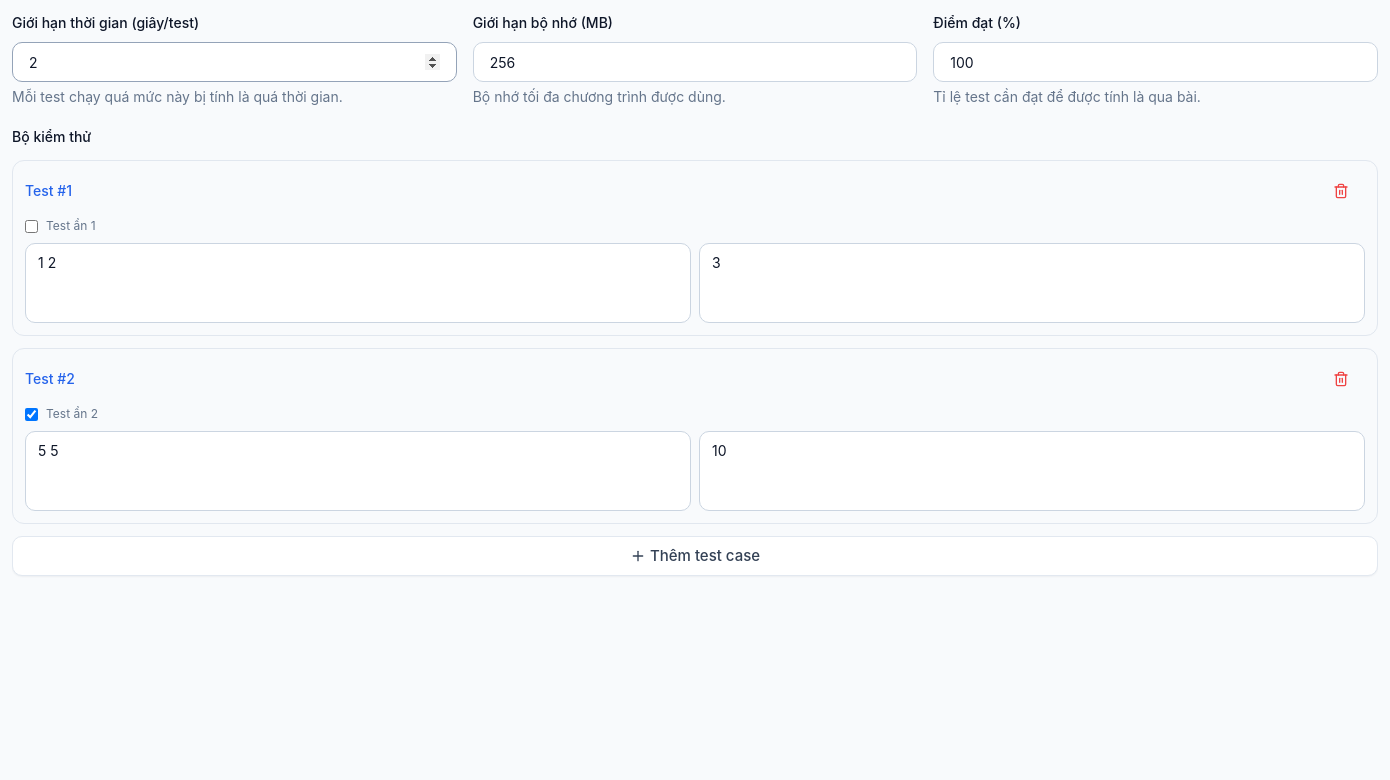
Test: ExerciseSettingsEditor › xoá trắng đầu vào của test (backend trả 400 cho input rỗng) -> chặn lưu
Expected: the text box showing "5 5" is shown, [25,431,691,511]
Clear the text box named "Đầu vào test 1" at (358, 283), box [25,243,691,323]
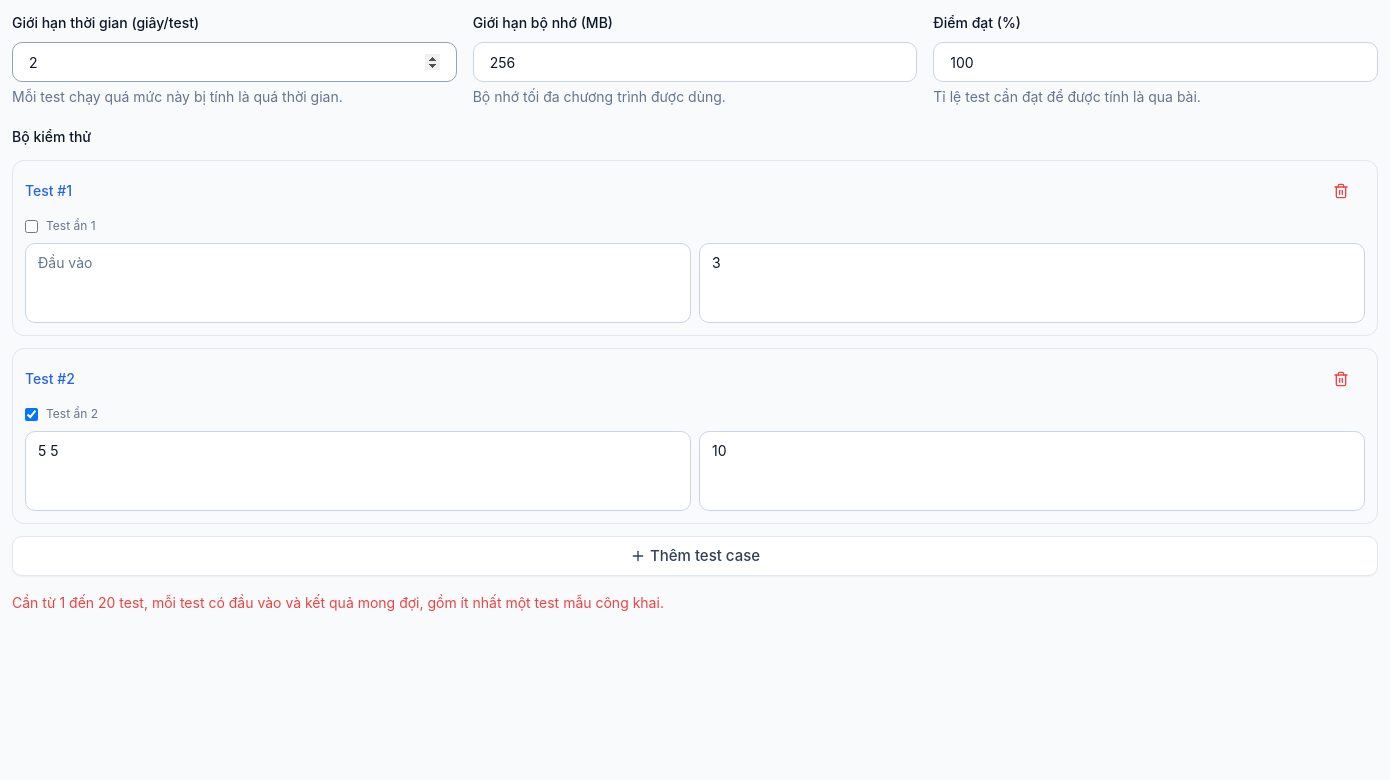
Result: the message with test id "exercise-test-cases-error" shows "đầu vào" at [12,594,664,611]
